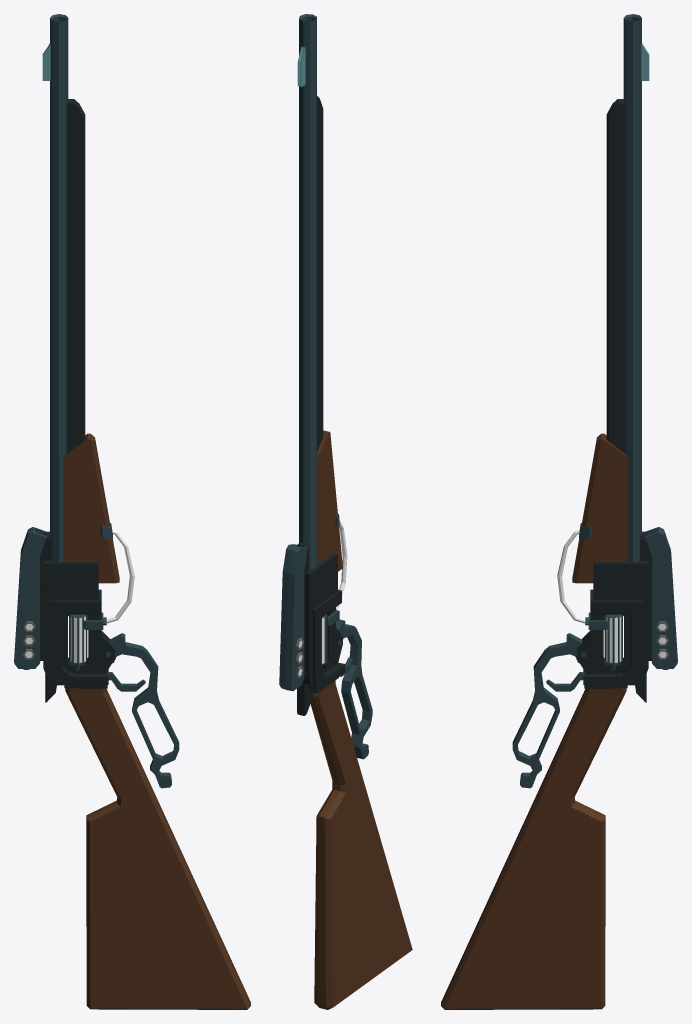
File: Rifle_V01.fbx
3 views of the same model, side by side, from view 1: azimuth 90°, elevation 25°; view 2: azimuth 150°, elevation 25°; view 3: azimuth 270°, elevation 25° (orthographic).
Visible parts, largest first — view 1: Rifle_V01, Long Scope, reload handle, gun body.003, Rifle_battery; view 2: Rifle_V01, Long Scope, reload handle, gun body.003, Rifle_battery; view 3: Rifle_V01, Long Scope, reload handle, gun body.003, Rifle_battery.
Boxes of the visible parts, left/top/right/bottom form: Rifle_V01: left=39, top=14, right=250, bottom=1009; Long Scope: left=14, top=527, right=46, bottom=669; reload handle: left=105, top=633, right=179, bottom=788; gun body.003: left=83, top=523, right=134, bottom=629; Rifle_battery: left=69, top=614, right=87, bottom=667; Rifle_V01: left=297, top=14, right=412, bottom=1009; Long Scope: left=279, top=544, right=307, bottom=691; reload handle: left=336, top=619, right=372, bottom=759; gun body.003: left=327, top=514, right=347, bottom=625; Rifle_battery: left=321, top=614, right=327, bottom=665; Rifle_V01: left=441, top=14, right=652, bottom=1009; Long Scope: left=645, top=527, right=677, bottom=669; reload handle: left=512, top=633, right=586, bottom=788; gun body.003: left=557, top=523, right=608, bottom=629; Rifle_battery: left=604, top=614, right=622, bottom=667.
Bounding box in the file's own units: 11.09 × 421 × 91.31.
